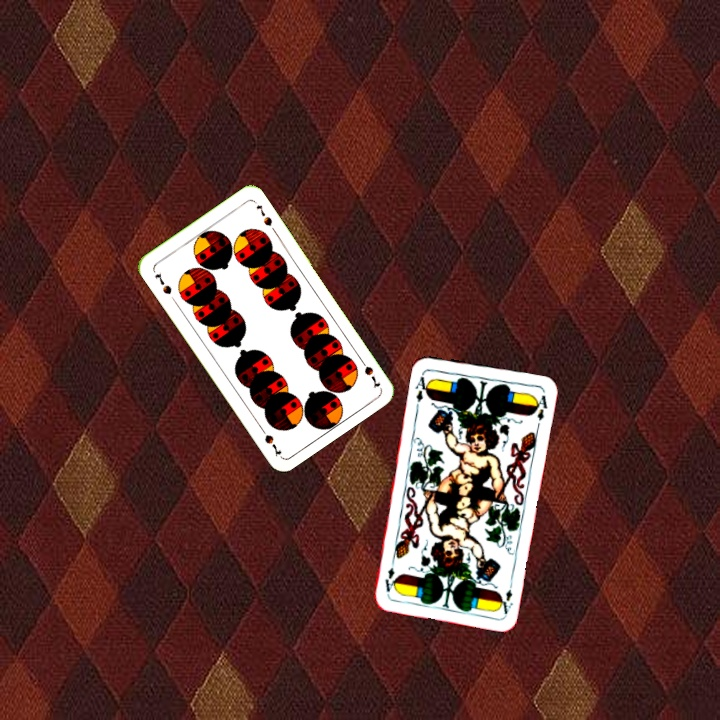EA: (495, 576, 515, 617), (411, 369, 433, 405)
S7: (356, 354, 383, 391), (151, 269, 174, 297)
